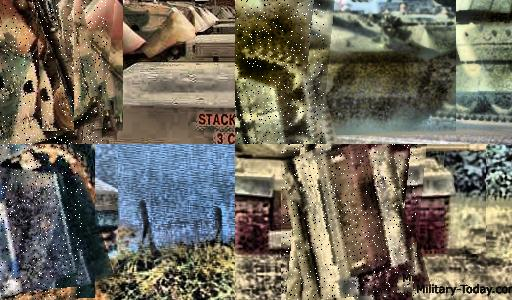tanks: (282, 145, 418, 300), (1, 1, 108, 145), (236, 1, 325, 145), (1, 145, 83, 300), (38, 1, 75, 121)
